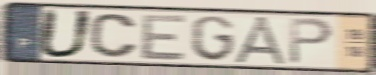A: (231, 15, 292, 67)
C: (88, 12, 140, 60)
E: (139, 13, 189, 61)
G: (189, 14, 236, 64)
P: (287, 16, 336, 67)
U: (35, 7, 96, 61)
